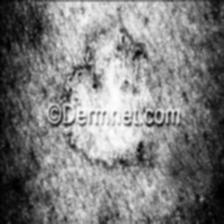Potentially Malignant Skin Tumors: (59, 28, 167, 98), (62, 128, 166, 172)
